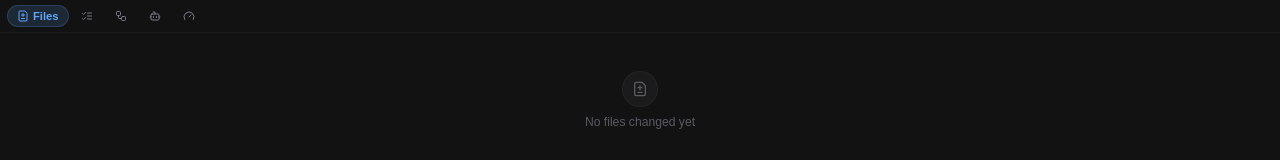
InspectorCard — the Usage tab says which absence it is showing › renders the recorded figures rather than short-circuiting to an empty tab
Click the button named "Usage" at (188, 16), box [172,5,204,27]
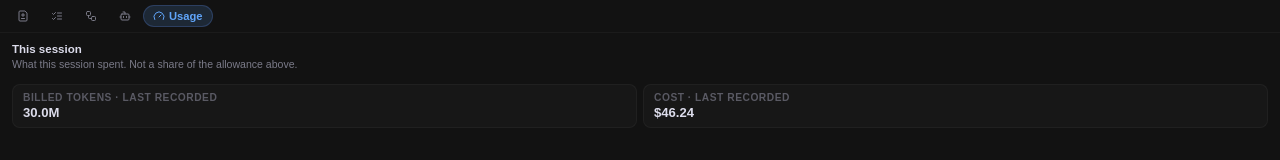
Now the text "$46.24" is shown, box [654,105,694,120]
Now the text "Cost · last recorded" is shown, box [654,92,790,103]
Now the text "Billed tokens · last recorded" is shown, box [23,92,217,103]
